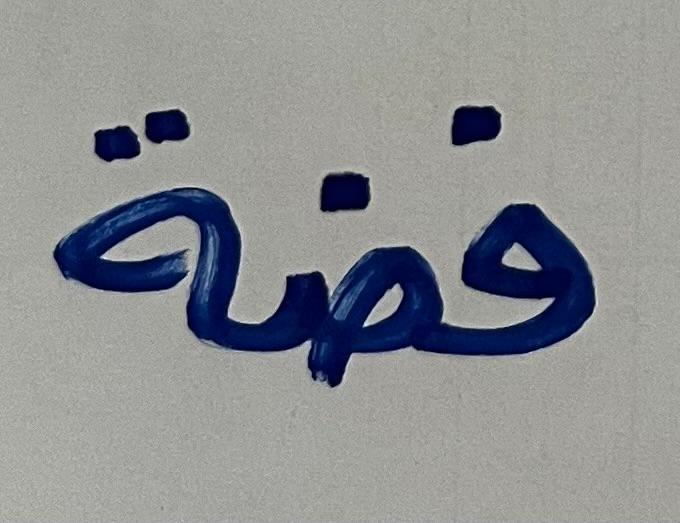dad: (263, 137, 448, 473)
feh: (451, 85, 620, 426)
teh_marbota: (20, 54, 258, 415)
